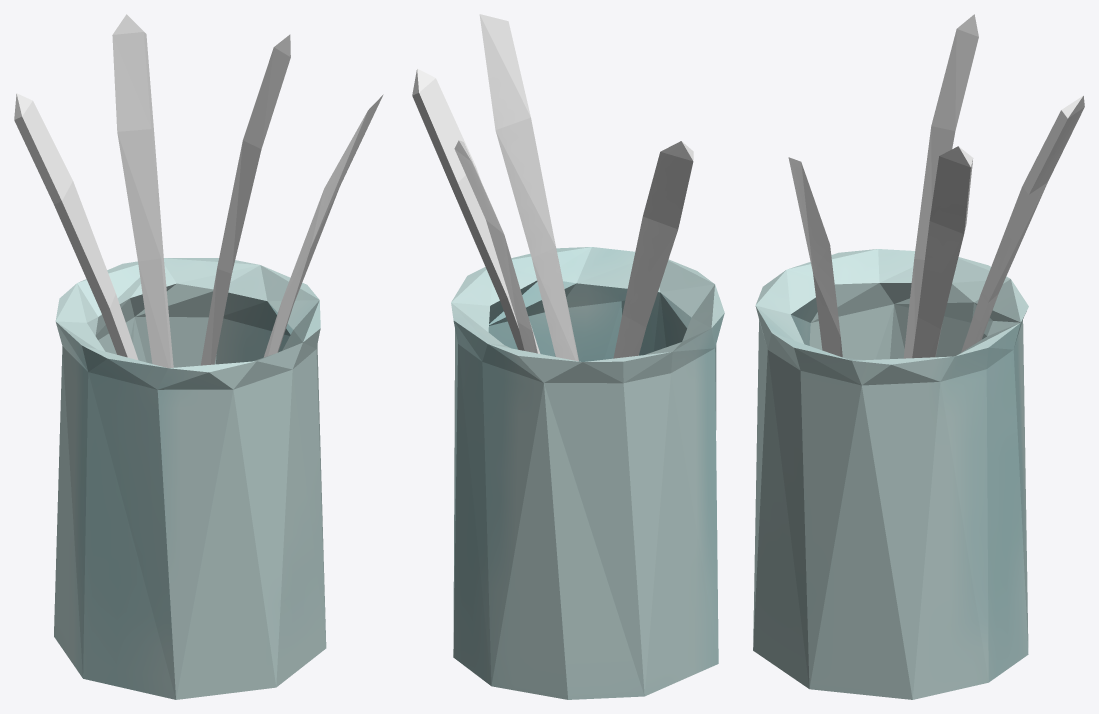
The model's file is spoon_cup.dae.
3 renders of one model, left to right at view 1: azimuth 30°, elevation 25°; view 2: azimuth 150°, elevation 25°; view 3: azimuth 270°, elevation 25°, orthographic. The views are drawn at different scales.
Visible parts, largest first — view 1: node; view 2: node; view 3: node.
Part boxes in pixels (x1,y1,x2,y2): node: (14,14,383,699); node: (412,14,724,699); node: (753,14,1084,699).
Bounding box in the file's own units: 0.0938 × 0.171 × 0.0915.
Materials: 1 (1 with a texture image).
